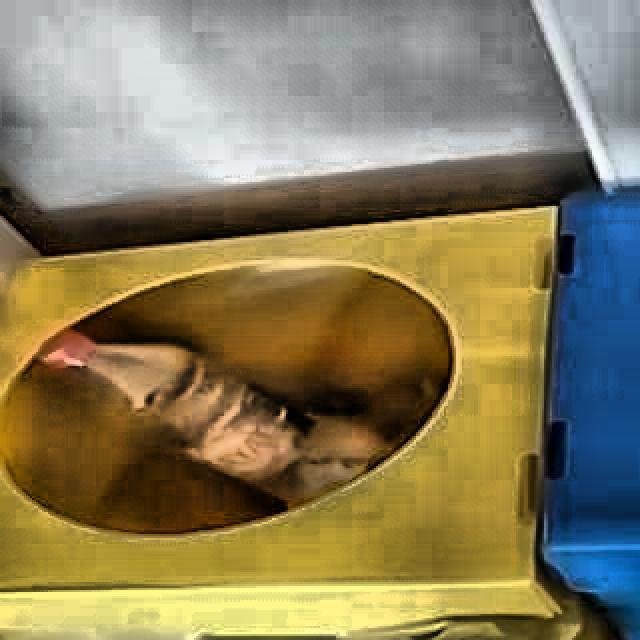plastic: (40, 331, 395, 508)
